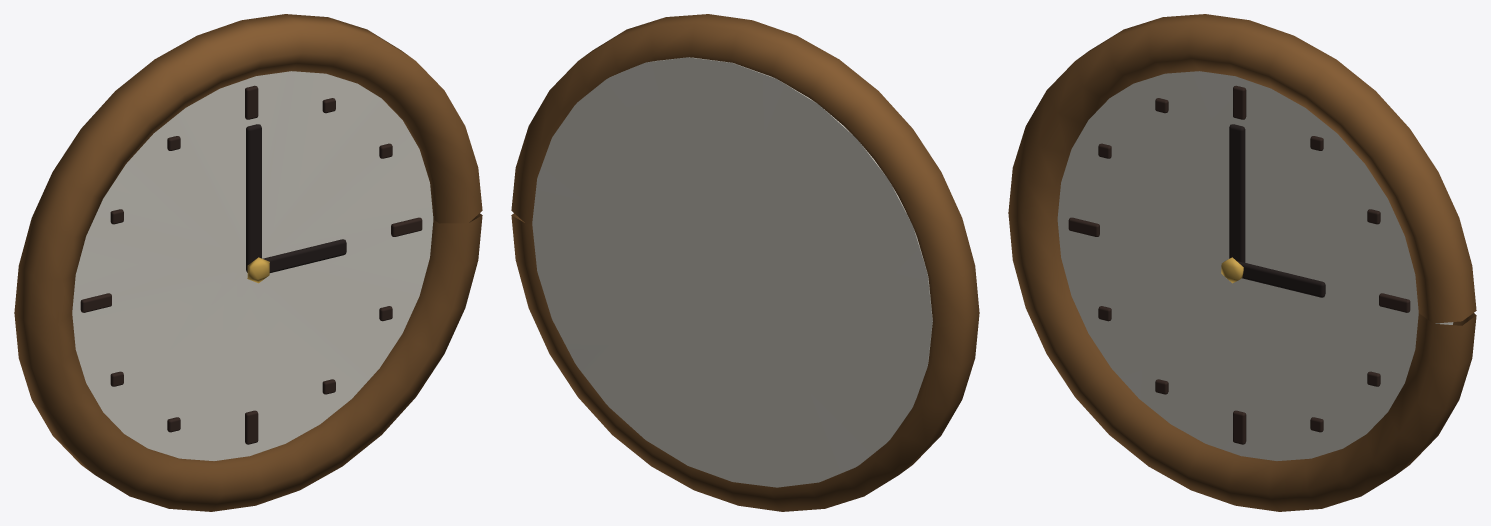
The model's file is furn_clock_wall.glb.
3 renders of one model, left to right at view 1: azimuth 30°, elevation 25°; view 2: azimuth 150°, elevation 25°; view 3: azimuth 330°, elevation 25°, orthographic.
Visible parts, largest first — view 1: furn_clock_wall_main; view 2: furn_clock_wall_main; view 3: furn_clock_wall_main.
Part boxes in pixels (x1,y1,x2,y2): furn_clock_wall_main: [14, 14, 482, 511]; furn_clock_wall_main: [511, 14, 979, 511]; furn_clock_wall_main: [1008, 14, 1476, 511].
Size of the model in its own units: 0.9064 by 0.9066 by 0.1.
